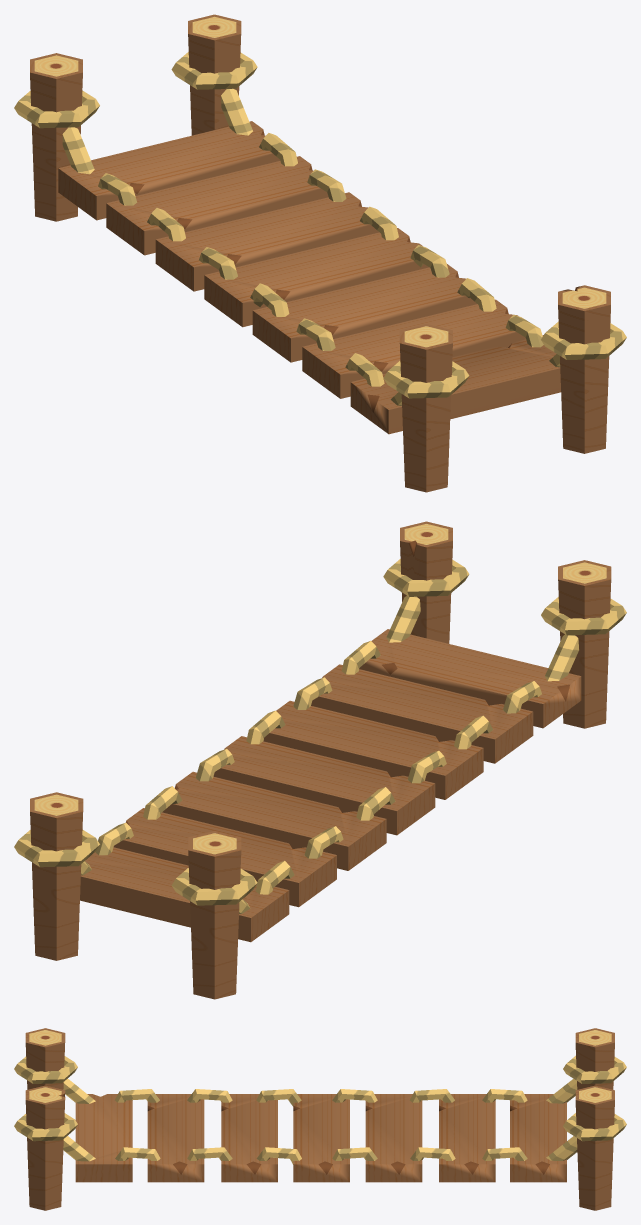
File: Bridge.fbx
3 renders of one model, top to bottom at view 1: azimuth 30°, elevation 25°; view 2: azimuth 150°, elevation 25°; view 3: azimuth 270°, elevation 25°, orthographic. The views are drawn at different scales.
Parts seen in each view (by area): view 1: Bridge; view 2: Bridge; view 3: Bridge.
Part boxes in pixels (<box>): Bridge: <box>14,14,626,492</box>; Bridge: <box>14,521,626,999</box>; Bridge: <box>14,1028,626,1210</box>.
Size of the model in its own units: 207 by 128 by 658.
Materials: 1 (1 with a texture image).
